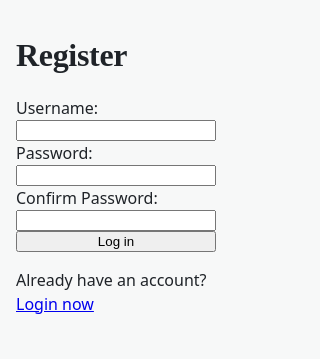
Scenario: RegisterPage validation › rejects an empty username
In the password field labelled "Password:": (116, 175) [16,165,216,186], type "Abcdefg1!"
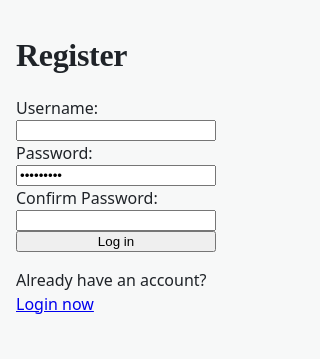
In the password field labelled "Confirm Password:": (116, 220) [16,210,216,231], type "Abcdefg1!"
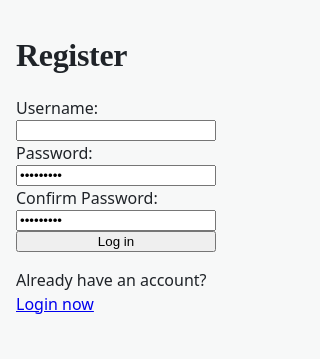
Click the button "Log in": (116, 241) [16,231,216,252]
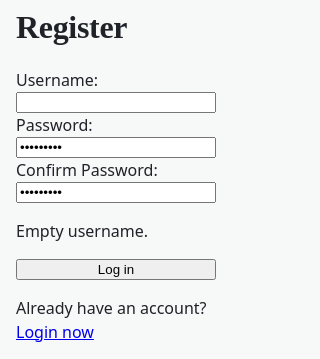
expect the text "Empty username." is shown: met, box [16,220,148,242]
